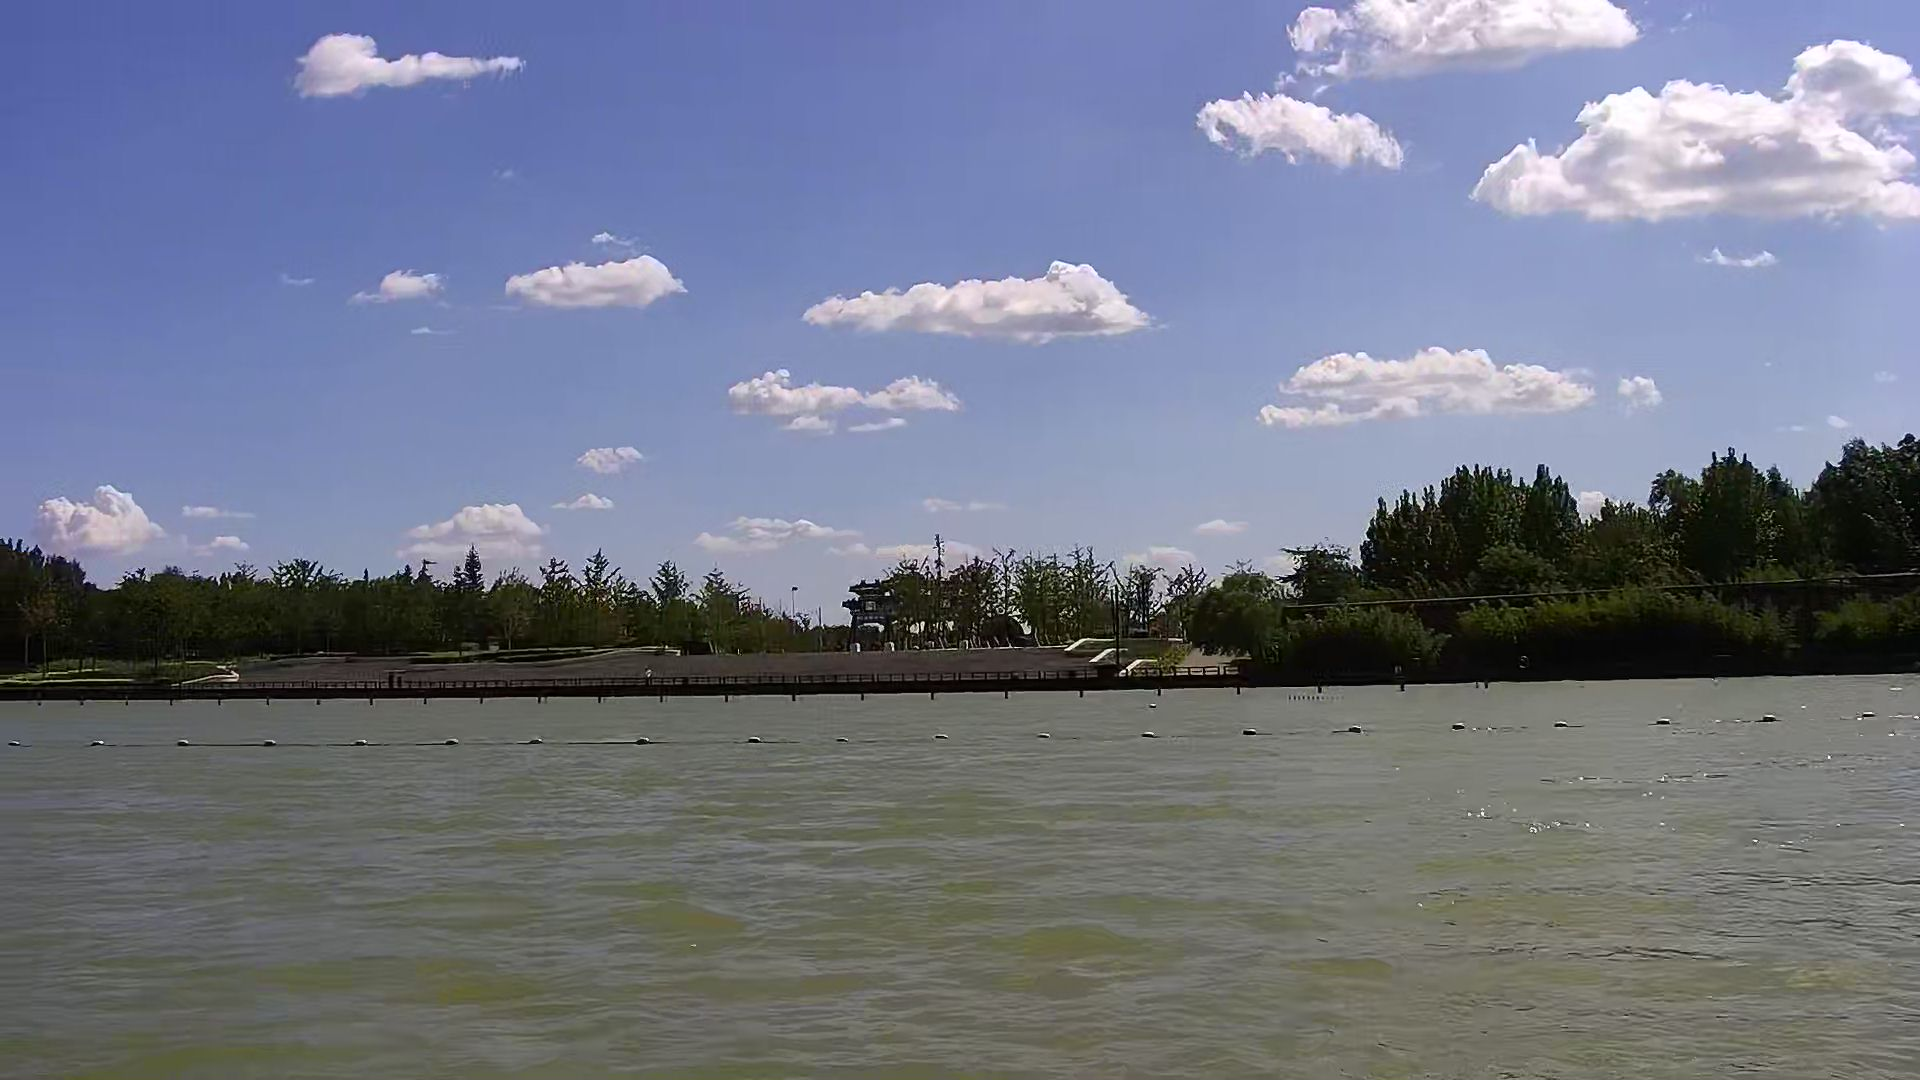ball: (1237, 717, 1259, 745), (439, 731, 468, 752), (83, 735, 113, 754), (171, 732, 200, 752), (1345, 717, 1369, 741), (630, 731, 657, 752), (257, 735, 284, 756), (737, 728, 766, 746), (1451, 716, 1470, 738)
harbor: (1, 650, 1244, 691)
